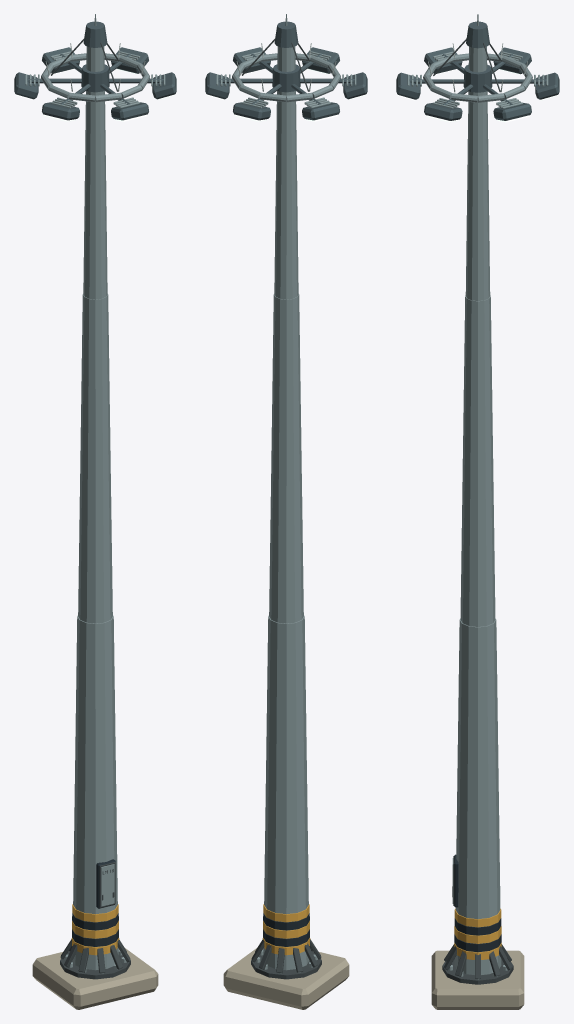
3 views of the same model, side by side, from view 1: azimuth 30°, elevation 25°; view 2: azimuth 150°, elevation 25°; view 3: azimuth 270°, elevation 25° (orthographic).
Parts seen in each view (by area): view 1: Twelve-Sided Telescopic Sections, Precast Mounting Block, Projector Housings, Median Hazard Bands, Lowering Crown Ring, Crown Radial Arms, Winch Service Door, Gusset Fins, Projector Cooling Fins, Bolted Flange, Crown Hoist Collar, Crown Cap; view 2: Twelve-Sided Telescopic Sections, Precast Mounting Block, Projector Housings, Median Hazard Bands, Lowering Crown Ring, Crown Radial Arms, Gusset Fins, Projector Cooling Fins, Bolted Flange, Crown Hoist Collar, Crown Cap; view 3: Twelve-Sided Telescopic Sections, Precast Mounting Block, Projector Housings, Median Hazard Bands, Lowering Crown Ring, Gusset Fins, Crown Radial Arms, Projector Cooling Fins, Bolted Flange, Crown Hoist Collar, Crown Cap.
Part boxes in pixels (x1=…): Twelve-Sided Telescopic Sections: x1=72, y1=46, x2=118, y2=970; Precast Mounting Block: x1=32, y1=947, x2=158, y2=1009; Projector Housings: x1=14, y1=47, x2=176, y2=120; Median Hazard Bands: x1=71, y1=904, x2=119, y2=955; Lowering Crown Ring: x1=41, y1=53, x2=149, y2=102; Crown Radial Arms: x1=27, y1=54, x2=163, y2=104; Winch Service Door: x1=96, y1=859, x2=115, y2=908; Gusset Fins: x1=60, y1=939, x2=130, y2=973; Projector Cooling Fins: x1=25, y1=51, x2=165, y2=108; Bolted Flange: x1=60, y1=951, x2=130, y2=979; Crown Hoist Collar: x1=81, y1=64, x2=109, y2=92; Crown Cap: x1=83, y1=21, x2=107, y2=47; Twelve-Sided Telescopic Sections: x1=263, y1=46, x2=309, y2=970; Precast Mounting Block: x1=223, y1=947, x2=349, y2=1009; Projector Housings: x1=205, y1=47, x2=367, y2=120; Median Hazard Bands: x1=262, y1=904, x2=310, y2=955; Lowering Crown Ring: x1=232, y1=53, x2=340, y2=102; Crown Radial Arms: x1=218, y1=54, x2=354, y2=104; Gusset Fins: x1=251, y1=939, x2=321, y2=973; Projector Cooling Fins: x1=216, y1=51, x2=356, y2=108; Bolted Flange: x1=251, y1=951, x2=321, y2=979; Crown Hoist Collar: x1=272, y1=64, x2=300, y2=92; Crown Cap: x1=274, y1=21, x2=298, y2=47; Twelve-Sided Telescopic Sections: x1=454, y1=46, x2=501, y2=974; Precast Mounting Block: x1=431, y1=950, x2=524, y2=1009; Projector Housings: x1=396, y1=47, x2=559, y2=120; Median Hazard Bands: x1=454, y1=908, x2=501, y2=959; Lowering Crown Ring: x1=423, y1=53, x2=532, y2=102; Gusset Fins: x1=444, y1=944, x2=511, y2=978; Crown Radial Arms: x1=409, y1=54, x2=546, y2=105; Projector Cooling Fins: x1=407, y1=51, x2=548, y2=108; Bolted Flange: x1=442, y1=959, x2=513, y2=984; Crown Hoist Collar: x1=463, y1=64, x2=492, y2=92; Crown Cap: x1=466, y1=21, x2=489, y2=48.
Size of the model in its own units: 2.62 by 18.16 by 2.75.
